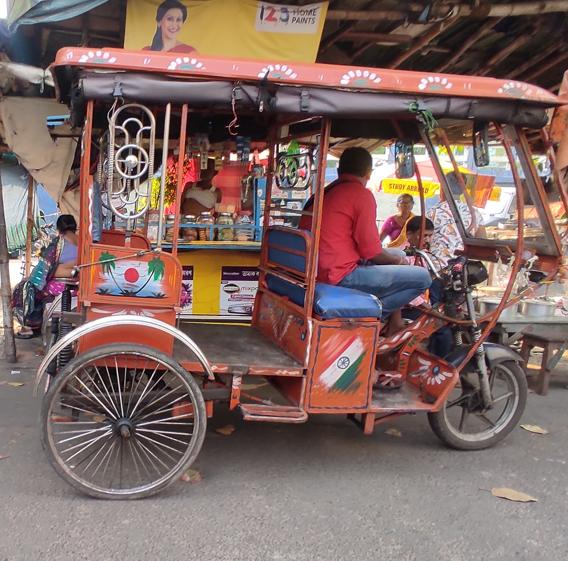Auto: (31, 41, 558, 507)
